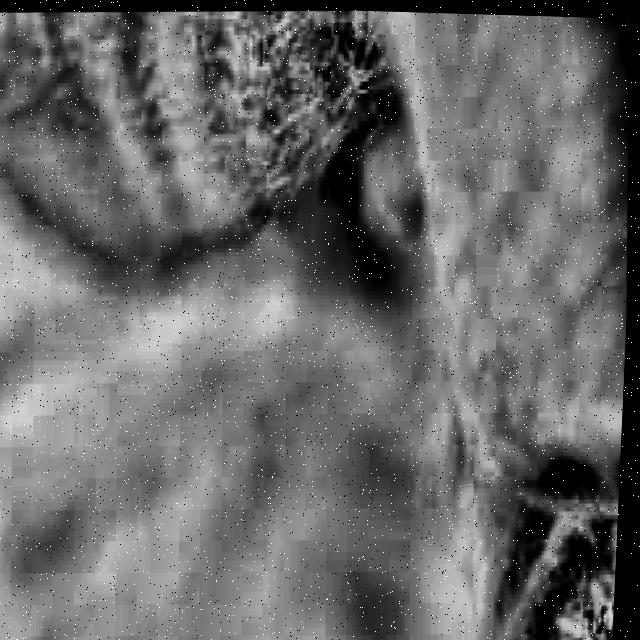dog: (278, 9, 640, 640)
